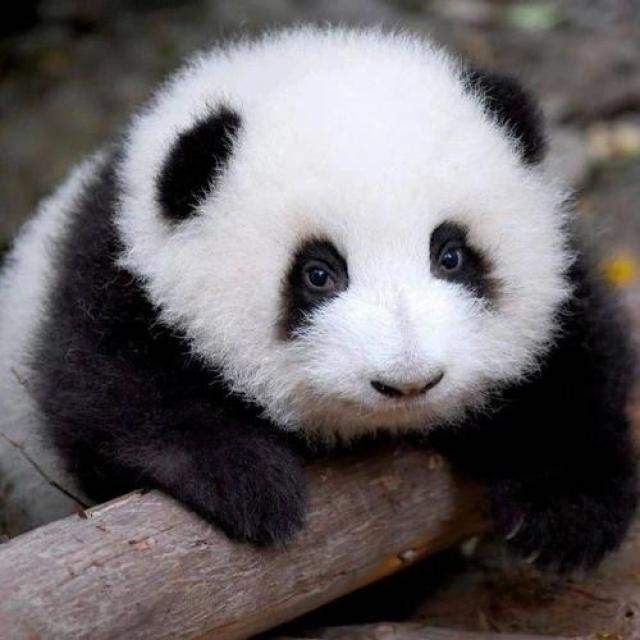panda: (45, 32, 603, 611)
